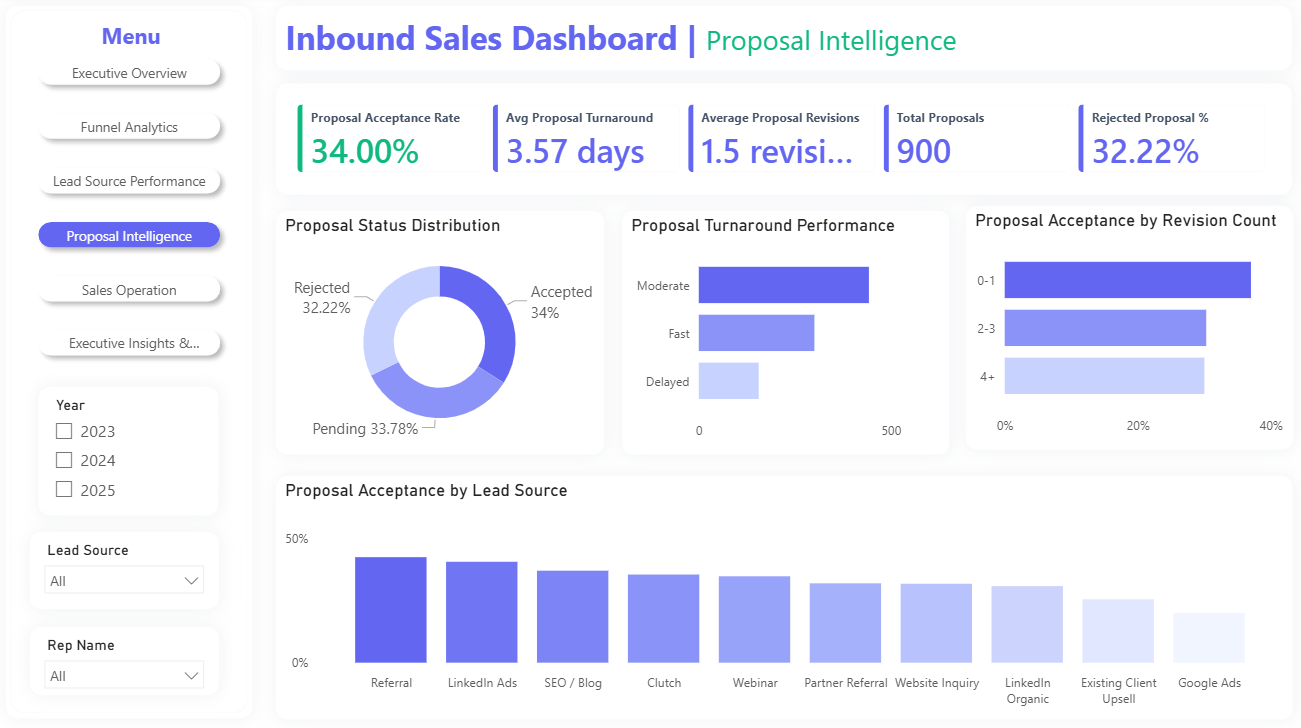

The page's visual inventory and layout, read from the dashboard file:
{"tool":"powerbi","page":{"name":"Proposal Intelligence","canvas":[1280,720],"ordinal":3},"visuals":[{"type":"donutChart","title":"Proposal Status Distribution","fields":{"Category":["gold fact_proposals.proposal_status"],"Y":["measure_table.Total Proposals"]},"box":[275.7,210,322,240],"z":0},{"type":"barChart","title":"Proposal Turnaround Performance","fields":{"Category":["gold fact_proposals.turnaround_category"],"Y":["measure_table.Total Proposals"]},"box":[614.3,210,321.4,240],"z":1000},{"type":"barChart","title":"Proposal Acceptance by Revision Count","fields":{"Category":["gold fact_proposals.revisions"],"Y":["measure_table.Proposal Acceptance Rate"]},"box":[950,205.7,321.4,240],"z":2000},{"type":"columnChart","title":"Proposal Acceptance by Lead Source","fields":{"Category":["gold dim_lead_source.lead_source"],"Y":["measure_table.Proposal Acceptance Rate"]},"box":[275.7,470,995.7,240],"z":3000},{"type":"cardVisual","fields":{"Data":["measure_table.Proposal Acceptance Rate","measure_table.Average Proposal Turnaround","measure_table.Avg Revision Count","measure_table.Total Proposals","measure_table.Rejected Proposal %"]},"box":[275,85,995,110],"z":4000},{"type":"shape","box":[11.5,10.1,242.4,698.3],"z":5000},{"type":"pageNavigator","box":[34.6,53.4,196.2,311.6],"z":6000},{"type":"slicer","fields":{"Values":["gold dim_date.date_value.Variation.Date Hierarchy.Year"]},"box":[43.3,382.3,177.5,127],"z":7000},{"type":"slicer","fields":{"Values":["gold dim_lead_source.lead_source"]},"box":[34.6,525.2,186.1,76.5],"z":8000},{"type":"slicer","fields":{"Values":["gold dim_representative.representative_name"]},"box":[34.6,617.5,186.1,67.8],"z":9000},{"type":"textbox","box":[100,20,90,45],"z":10000},{"type":"textbox","box":[275,10,995,65],"z":11000}]}

Visuals, with their boxes in screenshot pixels (x1, y1, x2, y2), scaled from the page's 1280x720 canvas onto the 1301x728 screenshot:
"Proposal Status Distribution" donutChart: (left=280, top=212, right=608, bottom=455)
"Proposal Turnaround Performance" barChart: (left=624, top=212, right=951, bottom=455)
"Proposal Acceptance by Revision Count" barChart: (left=966, top=208, right=1292, bottom=451)
"Proposal Acceptance by Lead Source" columnChart: (left=280, top=475, right=1292, bottom=718)
cardVisual - measure_table.Proposal Acceptance Rate x measure_table.Average Proposal Turnaround: (left=280, top=86, right=1291, bottom=197)
shape: (left=12, top=10, right=258, bottom=716)
pageNavigator: (left=35, top=54, right=235, bottom=369)
slicer - gold dim_date.date_value.Variation.Date Hierarchy.Year: (left=44, top=387, right=224, bottom=515)
slicer - gold dim_lead_source.lead_source: (left=35, top=531, right=224, bottom=608)
slicer - gold dim_representative.representative_name: (left=35, top=624, right=224, bottom=693)
textbox: (left=102, top=20, right=193, bottom=66)
textbox: (left=280, top=10, right=1291, bottom=76)
